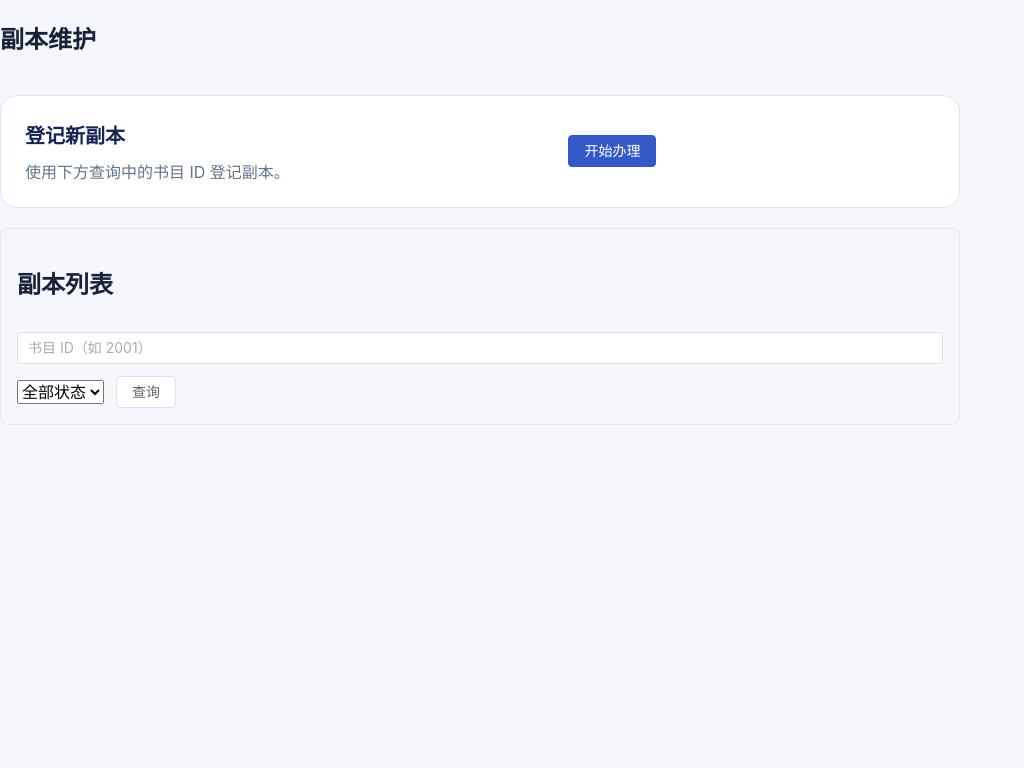
Test: CopyAdminView › presents state conflicts on stale versions
Submit the form with test id "copy-filter-form", box x1=17 y1=332 x2=943 y2=408
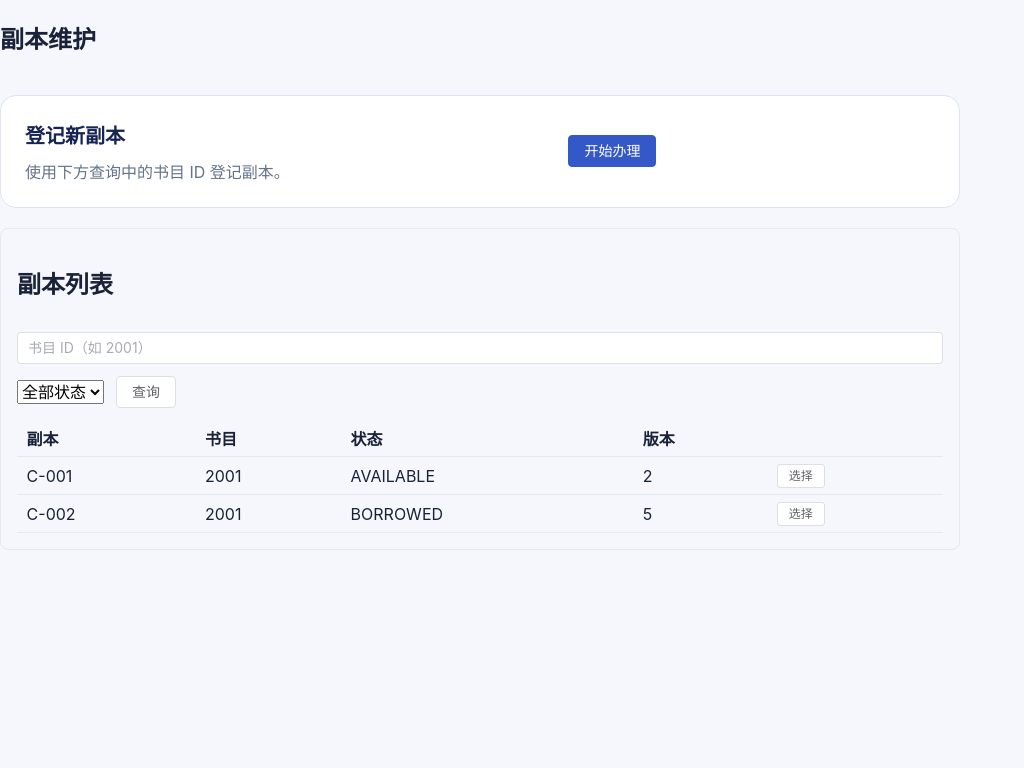
Click the button with test id "copy-select-3001" at (801, 476), box x1=777 y1=464 x2=825 y2=488
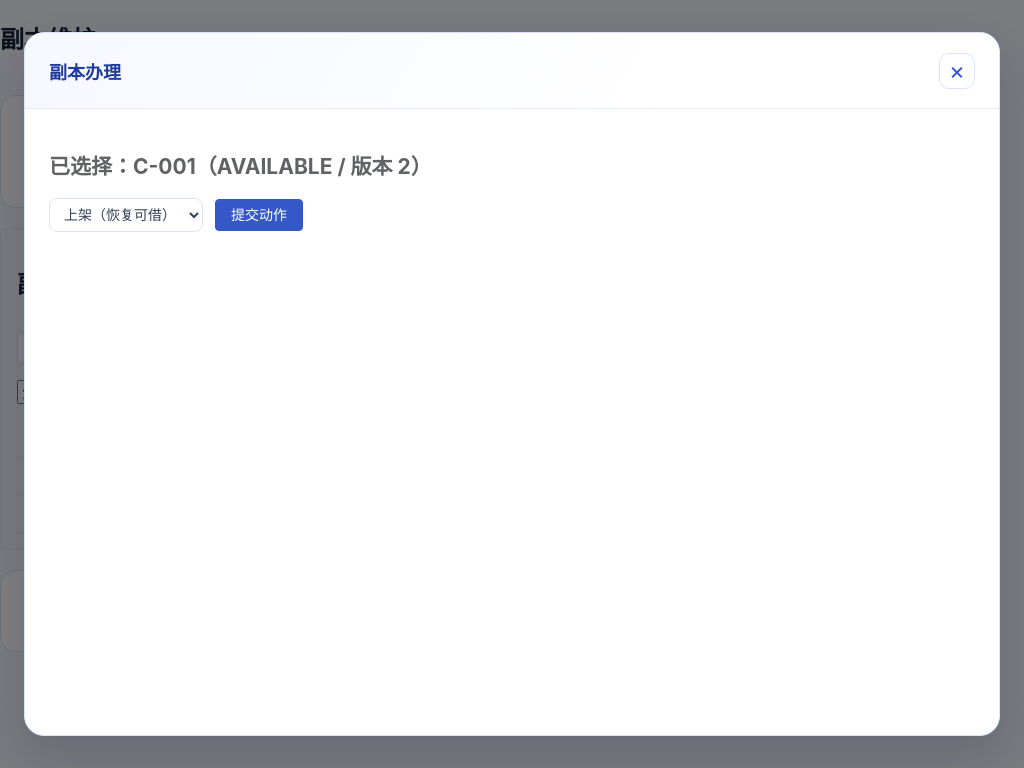
Submit the form with test id "copy-action-form", box x1=49 y1=198 x2=303 y2=232
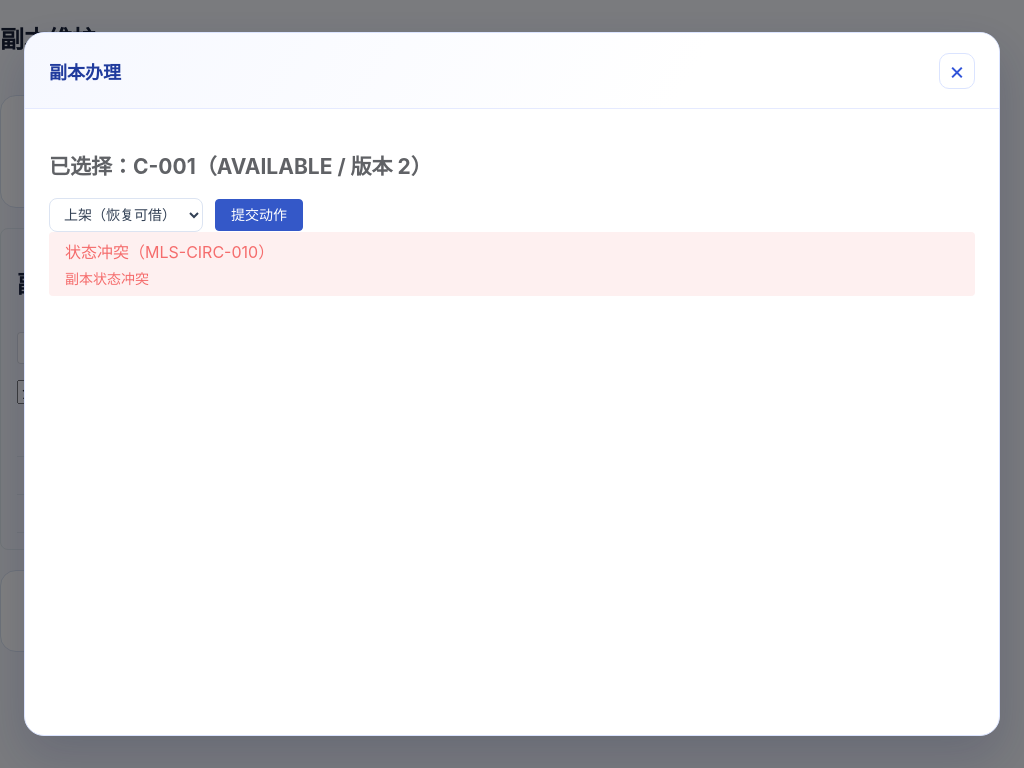
Now the element with test id "error-alert" shows "MLS-CIRC-010", box x1=65 y1=242 x2=274 y2=262
